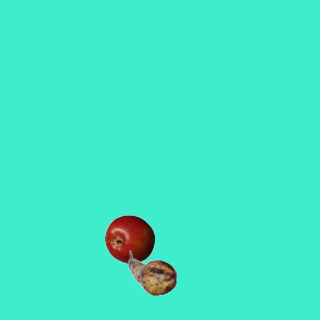Apple Braeburn: (104, 214, 154, 264)
Pear Abate: (127, 248, 177, 298)
